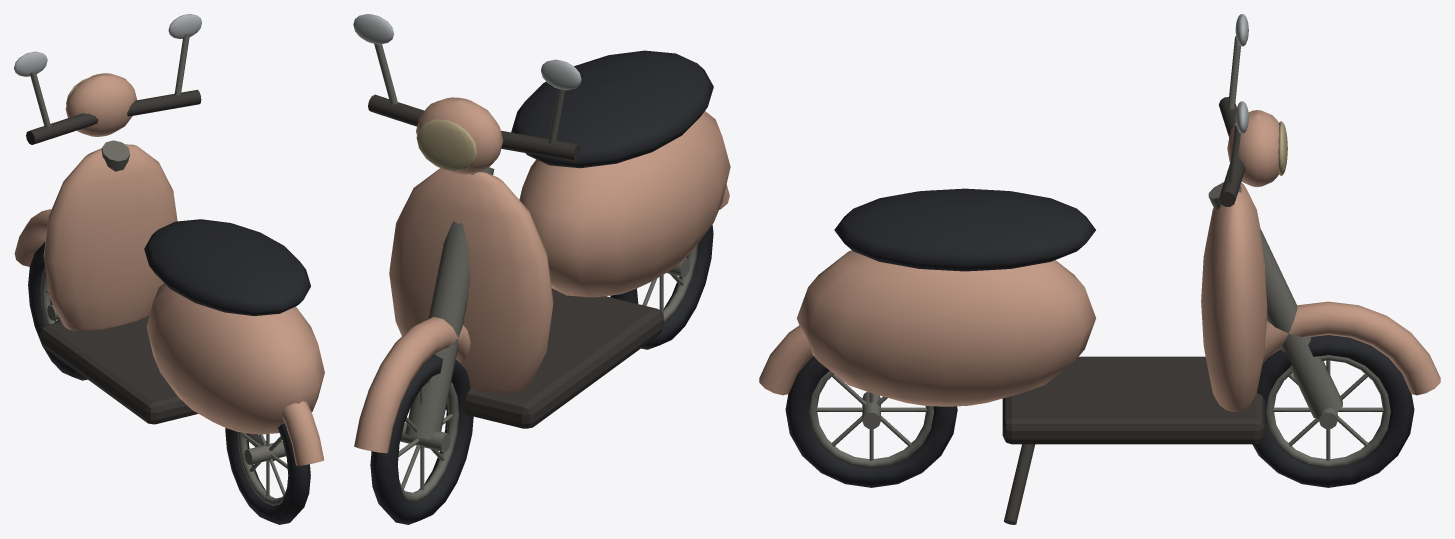
File: MS_SP_16_ParkedScooter.glb
3 views of the same model, side by side, from view 1: azimuth 30°, elevation 25°; view 2: azimuth 150°, elevation 25°; view 3: azimuth 270°, elevation 25° (orthographic). The views are drawn at different scales.
Visible parts, largest first — view 1: CurvedFender, Saddle.001, Footboard, Axle.002, Mirror; view 2: CurvedFender, Saddle.001, Footboard, Axle.002, Headlight, Mirror; view 3: CurvedFender, Saddle.001, Footboard, Axle.002.
Part boxes in pixels (<box>): CurvedFender: <box>14,73,324,465</box>; Saddle.001: <box>28,219,310,524</box>; Footboard: <box>26,89,274,460</box>; Axle.002: <box>30,34,287,505</box>; Mirror: <box>14,14,201,76</box>; CurvedFender: <box>354,97,730,453</box>; Saddle.001: <box>370,50,713,524</box>; Footboard: <box>368,94,663,428</box>; Axle.002: <box>374,44,697,501</box>; Headlight: <box>416,119,477,171</box>; Mirror: <box>353,14,581,90</box>; CurvedFender: <box>759,110,1440,412</box>; Saddle.001: <box>785,188,1414,487</box>; Footboard: <box>1002,97,1264,524</box>; Axle.002: <box>809,36,1390,468</box>.
Size of the model in its own units: 0.672 by 1.26 by 1.82.
6 materials, 1 textured.
